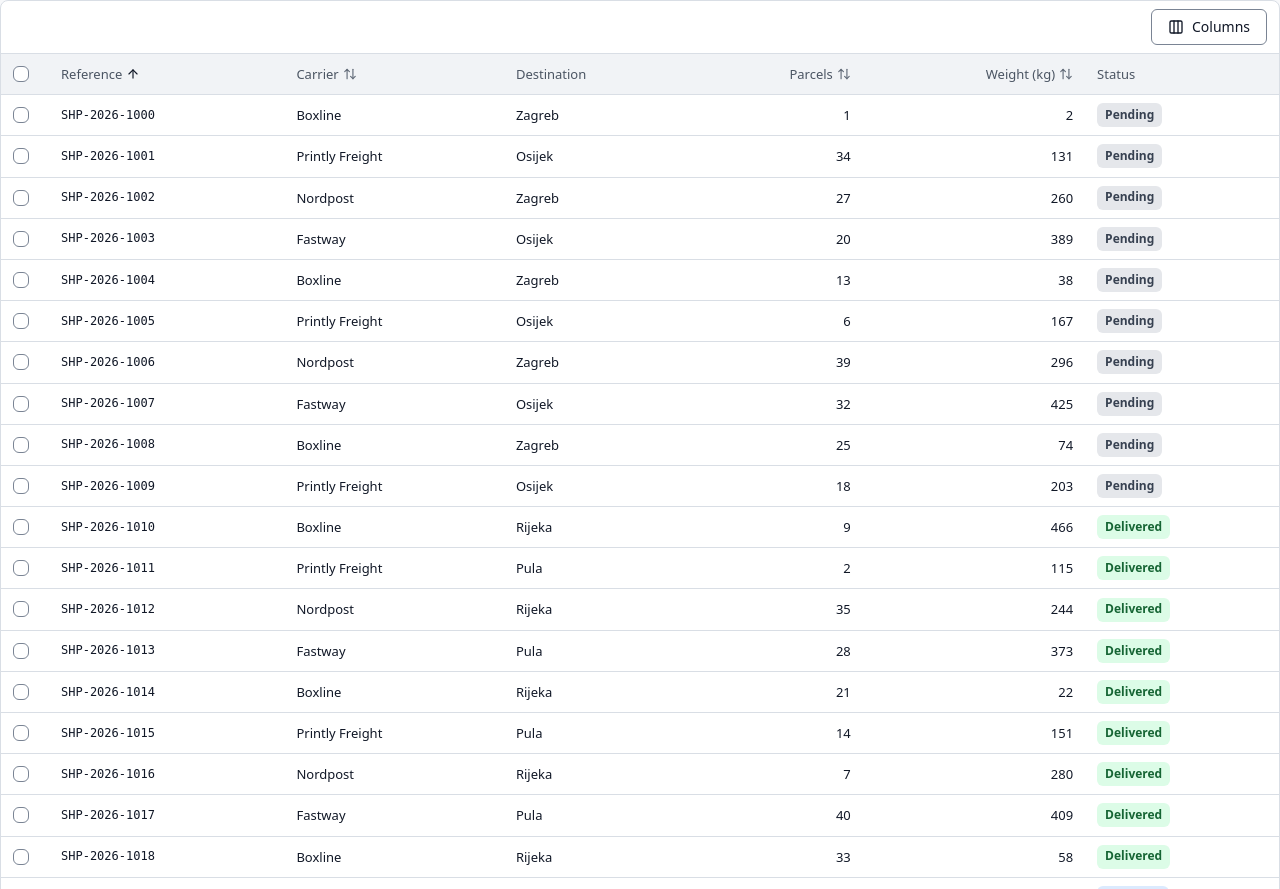
selection › uses the singular for one row and clears from the bulk bar
The width and height of the screenshot is (1280, 889).
Step 1. Click the checkbox named "Select SHP-2026-1001" next to "SHP-2026-1001" → (21,156), box [13,148,29,164]
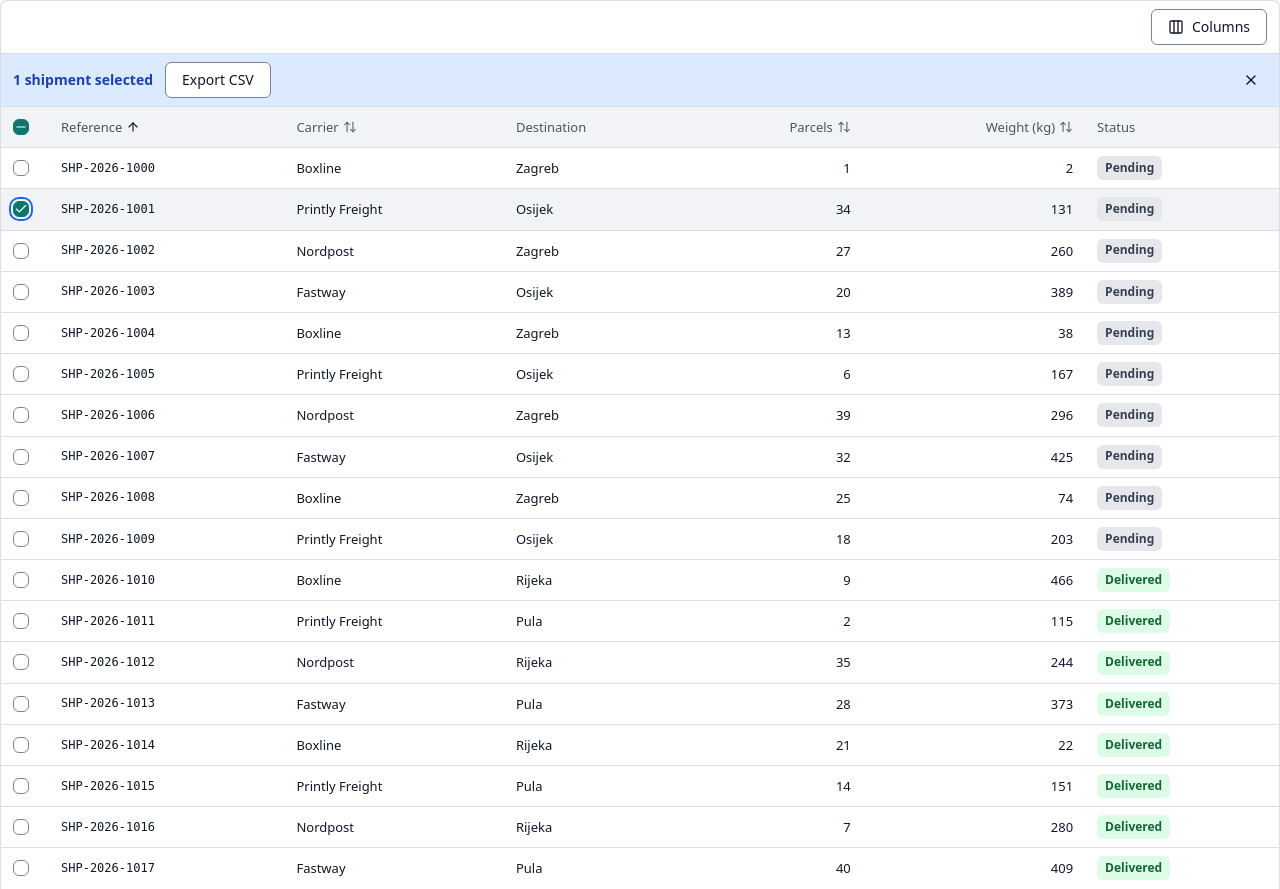
Check: the text "1 shipment selected" is shown, box [13,70,153,90]
Step 2. Click the button named "Clear selection" → (1251,80), box [1235,64,1267,96]
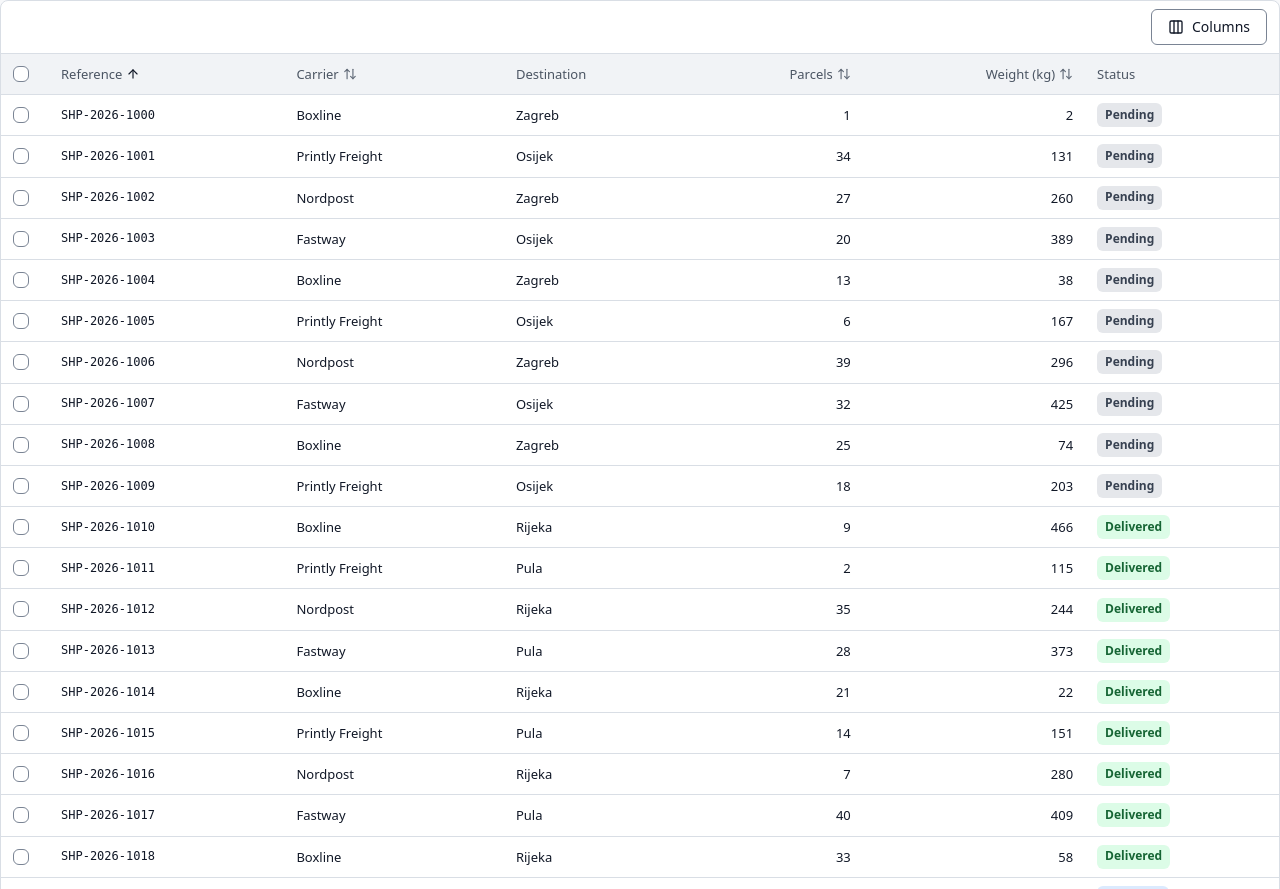
Check: the text "selected" is gone
